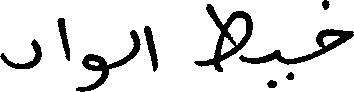X: (197, 0, 251, 76), (318, 0, 353, 60), (0, 34, 40, 73), (83, 49, 107, 91), (145, 21, 156, 76), (58, 13, 68, 65), (272, 45, 282, 91), (130, 25, 138, 64)
